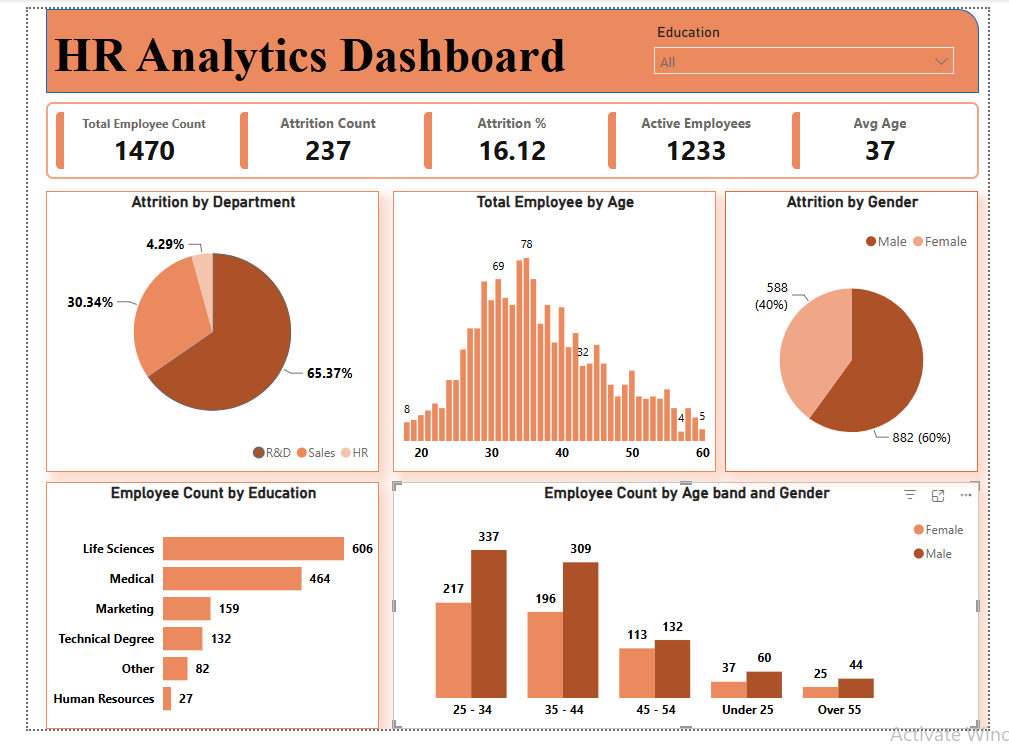

Layout of this report page (visuals, bound fields, positions):
{"tool":"powerbi","page":{"name":"Page 1","canvas":[960,720],"ordinal":0},"visuals":[{"type":"shape","box":[18,10,933,74],"z":0},{"type":"cardVisual","fields":{"Data":["Table.Total Employee Count","Table.Attrition Count","Measure Table.Attrition %","Measure Table.Active Employees","Measure Table.Avg Age"]},"box":[18.3,92.7,932.3,77.2],"z":1000},{"type":"slicer","fields":{"Values":["HR data.Education"]},"box":[616.5,10.2,319.6,63.7],"z":2000},{"type":"pieChart","title":"Attrition by Department","fields":{"Category":["HR data.Department"],"Y":["CountNonNull(HR data.Attrition)"]},"box":[18.2,182,333.3,280.9],"z":3000},{"type":"clusteredColumnChart","title":"Total Employee by Age","fields":{"Y":["Measure Table.Total Employee Count"],"Category":["HR data.Age"]},"box":[365.1,182,323,280.9],"z":4000},{"type":"clusteredBarChart","title":"Employee Count by Education","fields":{"Category":["HR data.Education Field"],"Y":["Sum(HR data.Employee Count)"]},"box":[18,473,333,247],"z":5000},{"type":"clusteredColumnChart","title":"Employee Count by Age band and Gender","fields":{"Category":["HR data.CF_age band"],"Y":["Sum(HR data.Employee Count)"],"Series":["HR data.Gender"]},"box":[365.1,473.2,585.8,246.8],"z":6000},{"type":"pieChart","title":"Attrition by Gender","fields":{"Category":["HR data.Gender"],"Y":["CountNonNull(HR data.Attrition)"]},"box":[697.3,182,252.5,280.9],"z":7000}]}

Visuals, with their boxes in screenshot pixels (x1, y1, x2, y2), scaled from the page's 960x720 canvas onto the 1009x747 screenshot:
shape: BBox(19, 10, 1000, 87)
cardVisual - Table.Total Employee Count x Table.Attrition Count: BBox(19, 96, 999, 176)
slicer - HR data.Education: BBox(648, 11, 984, 77)
"Attrition by Department" pieChart: BBox(19, 189, 369, 480)
"Total Employee by Age" clusteredColumnChart: BBox(384, 189, 723, 480)
"Employee Count by Education" clusteredBarChart: BBox(19, 491, 369, 746)
"Employee Count by Age band and Gender" clusteredColumnChart: BBox(384, 491, 999, 746)
"Attrition by Gender" pieChart: BBox(733, 189, 998, 480)
